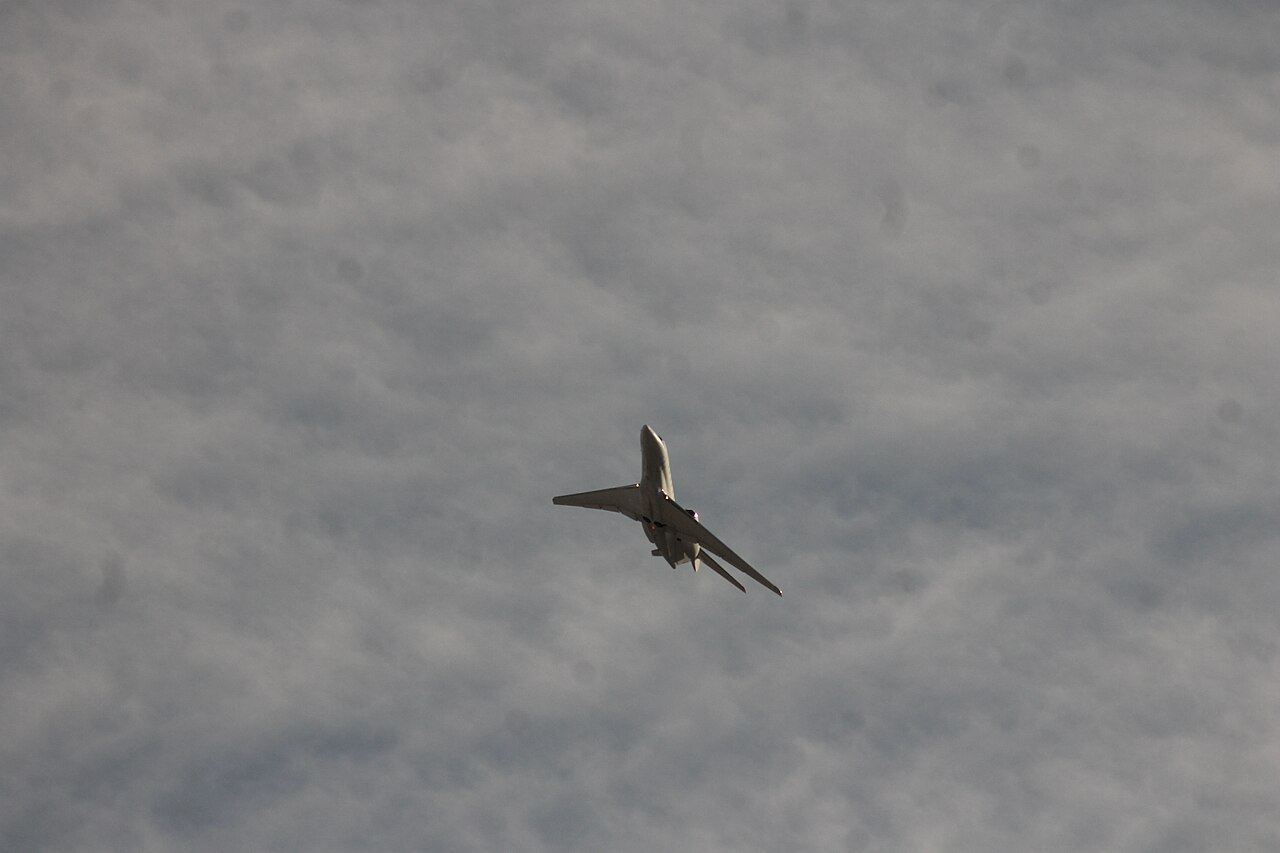aircraft: (550, 391, 819, 604)
